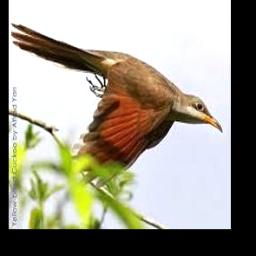Cuckoo: (11, 22, 222, 187)
